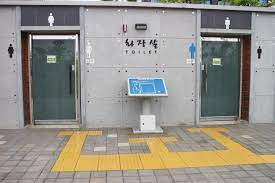guide_blocks: (82, 151, 275, 169), (51, 140, 83, 168), (209, 133, 247, 151), (57, 130, 101, 137), (129, 137, 177, 142), (188, 127, 227, 132), (148, 143, 169, 151)
